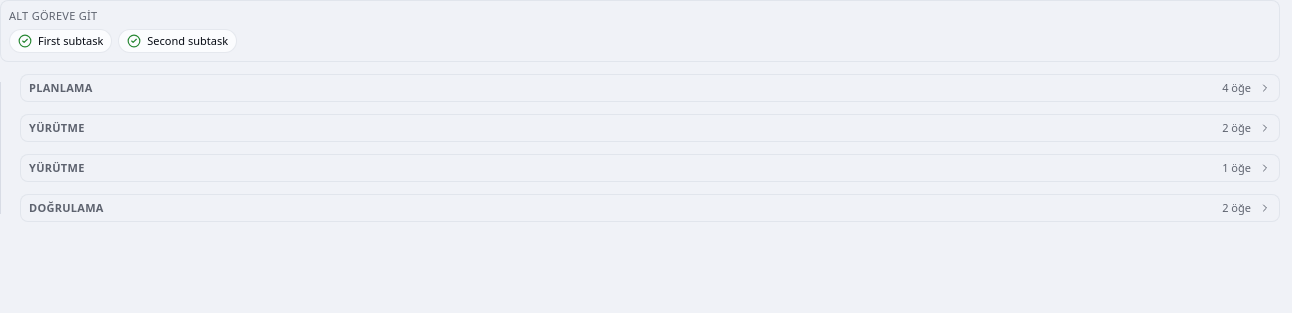
SessionGraphView Turkish locale › renders translated phase, toggle and outline labels instead of English fallback
Expected: the text "Planlama" is shown, [29,80,93,95]
Expected: the text "Doğrulama" is shown, [29,200,104,215]
Click the 1st text "Yürütme" at x=57, y=128, box [29,120,85,135]
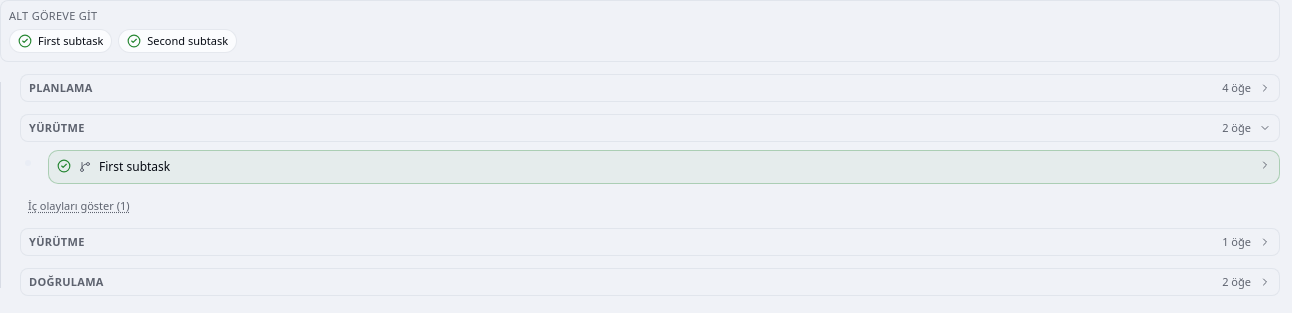
Expected: the button "İç olayları göster (1)" is shown, [28,199,130,213]
